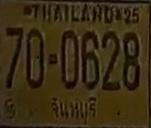0: (26, 28, 45, 88), (60, 30, 78, 88)
2: (101, 31, 121, 92)
6: (80, 30, 101, 91)
7: (5, 26, 24, 88)
8: (122, 30, 139, 90)
CTI: (48, 93, 98, 123)
